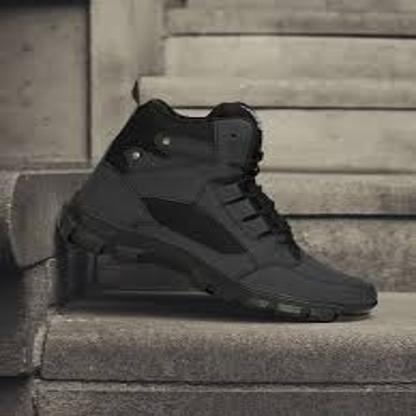not trash: (49, 86, 381, 318)
